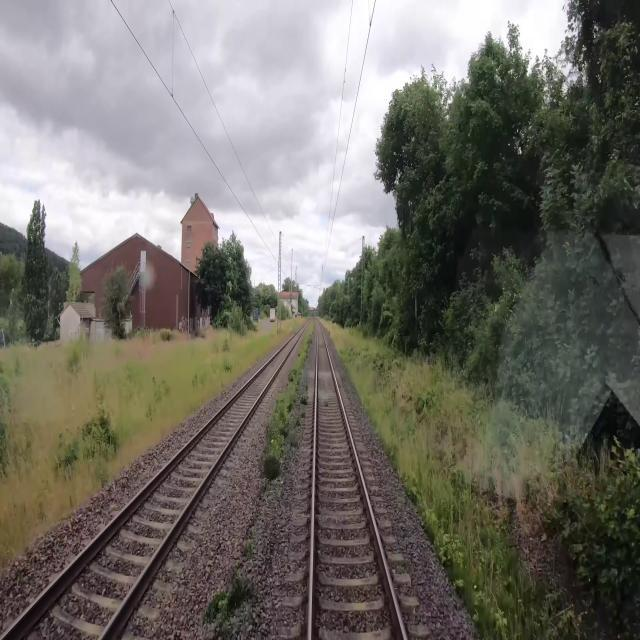Plant: (260, 318, 316, 484), (200, 563, 258, 625), (244, 533, 259, 561)
